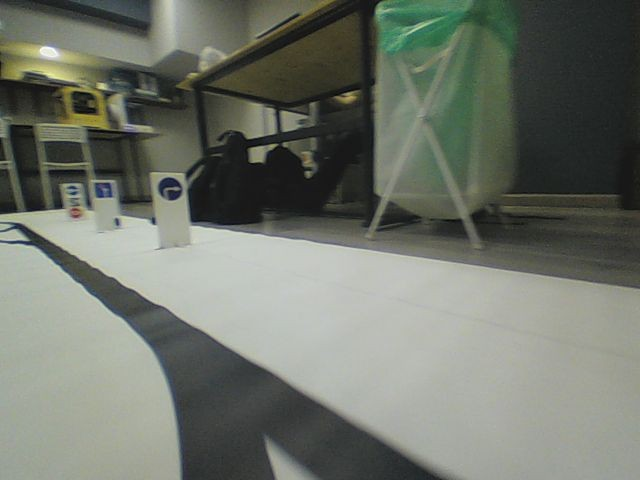Right: (156, 176, 182, 202)
